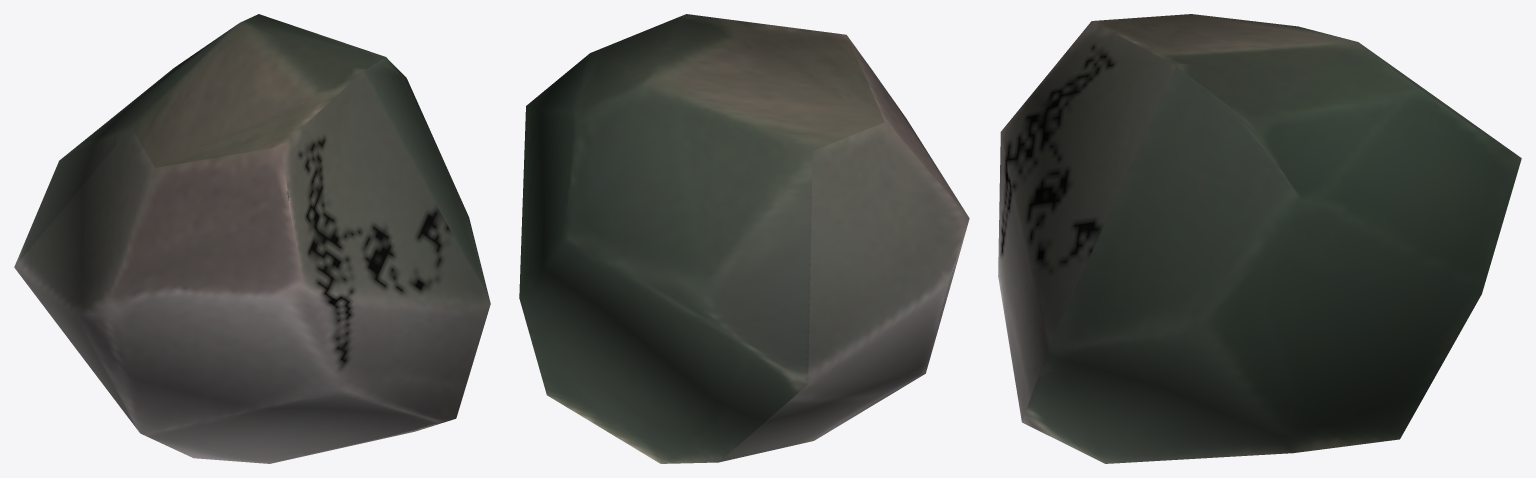
The picture shows the model from 3 angles, left to right: view 1: azimuth 30°, elevation 25°; view 2: azimuth 150°, elevation 25°; view 3: azimuth 270°, elevation 25°; orthographic projection. The views are drawn at different scales.
Visible parts, largest first — view 1: Խ.001; view 2: Խ.001; view 3: Խ.001.
Part boxes in pixels (bbox=[...]): Խ.001: bbox=[14, 14, 490, 463]; Խ.001: bbox=[519, 14, 969, 463]; Խ.001: bbox=[998, 14, 1521, 463].
Size of the model in its own units: 113 by 106 by 117.
